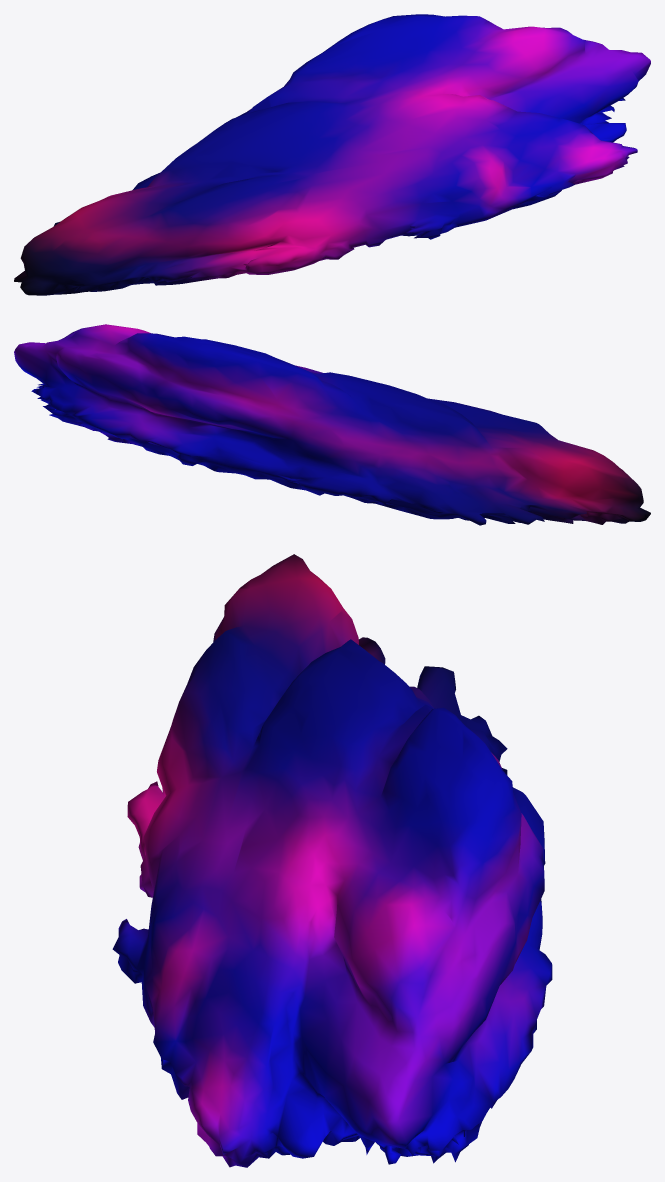
Rendered from iron_vein-u8-cold-lod0.gltf.
The picture shows the model from 3 angles, top to bottom: view 1: azimuth 30°, elevation 25°; view 2: azimuth 150°, elevation 25°; view 3: azimuth 270°, elevation 25°; orthographic projection. The views are drawn at different scales.
Parts seen in each view (by area): view 1: iron_vein-u8-cold-lod0; view 2: iron_vein-u8-cold-lod0; view 3: iron_vein-u8-cold-lod0.
Part boxes in pixels (box(x1,y1,x2,y2)): iron_vein-u8-cold-lod0: box(14, 14, 650, 295); iron_vein-u8-cold-lod0: box(14, 324, 650, 525); iron_vein-u8-cold-lod0: box(112, 554, 552, 1167).
Size of the model in its own units: 2.48 by 0.4884 by 0.7779.
